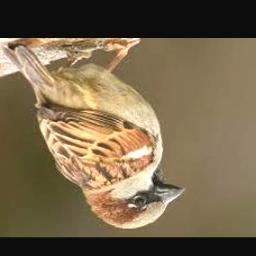Sparrow: (2, 41, 186, 230)
